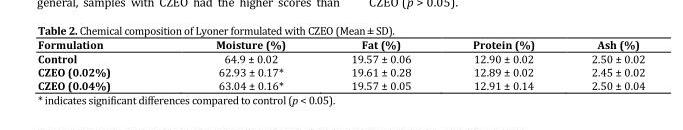table: (37, 37, 644, 91)
table column: (162, 37, 317, 91), (37, 37, 162, 91), (317, 37, 441, 91), (441, 37, 562, 91), (562, 37, 644, 91)
table column header: (37, 37, 644, 51)
table row: (37, 37, 644, 51), (37, 64, 644, 78), (37, 51, 644, 64), (37, 78, 644, 91)
